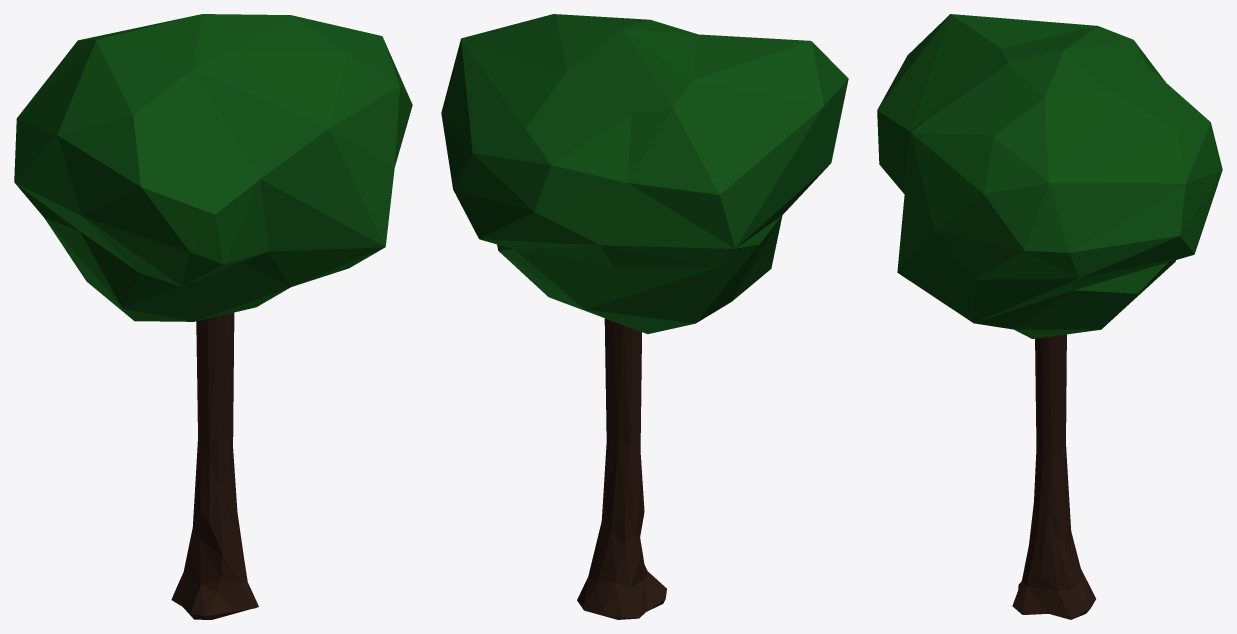
The model's file is SM_tree_20.fbx.
The picture shows the model from 3 angles, left to right: view 1: azimuth 30°, elevation 25°; view 2: azimuth 150°, elevation 25°; view 3: azimuth 270°, elevation 25°; orthographic projection. The views are drawn at different scales.
Visible parts, largest first — view 1: tree_20; view 2: tree_20; view 3: tree_20.
Boxes of the visible parts, box(x1,y1,x2,y2) form: tree_20: box(14, 14, 412, 619); tree_20: box(441, 14, 848, 619); tree_20: box(877, 14, 1222, 619).
Size of the model in its own units: 532 by 827 by 466.
